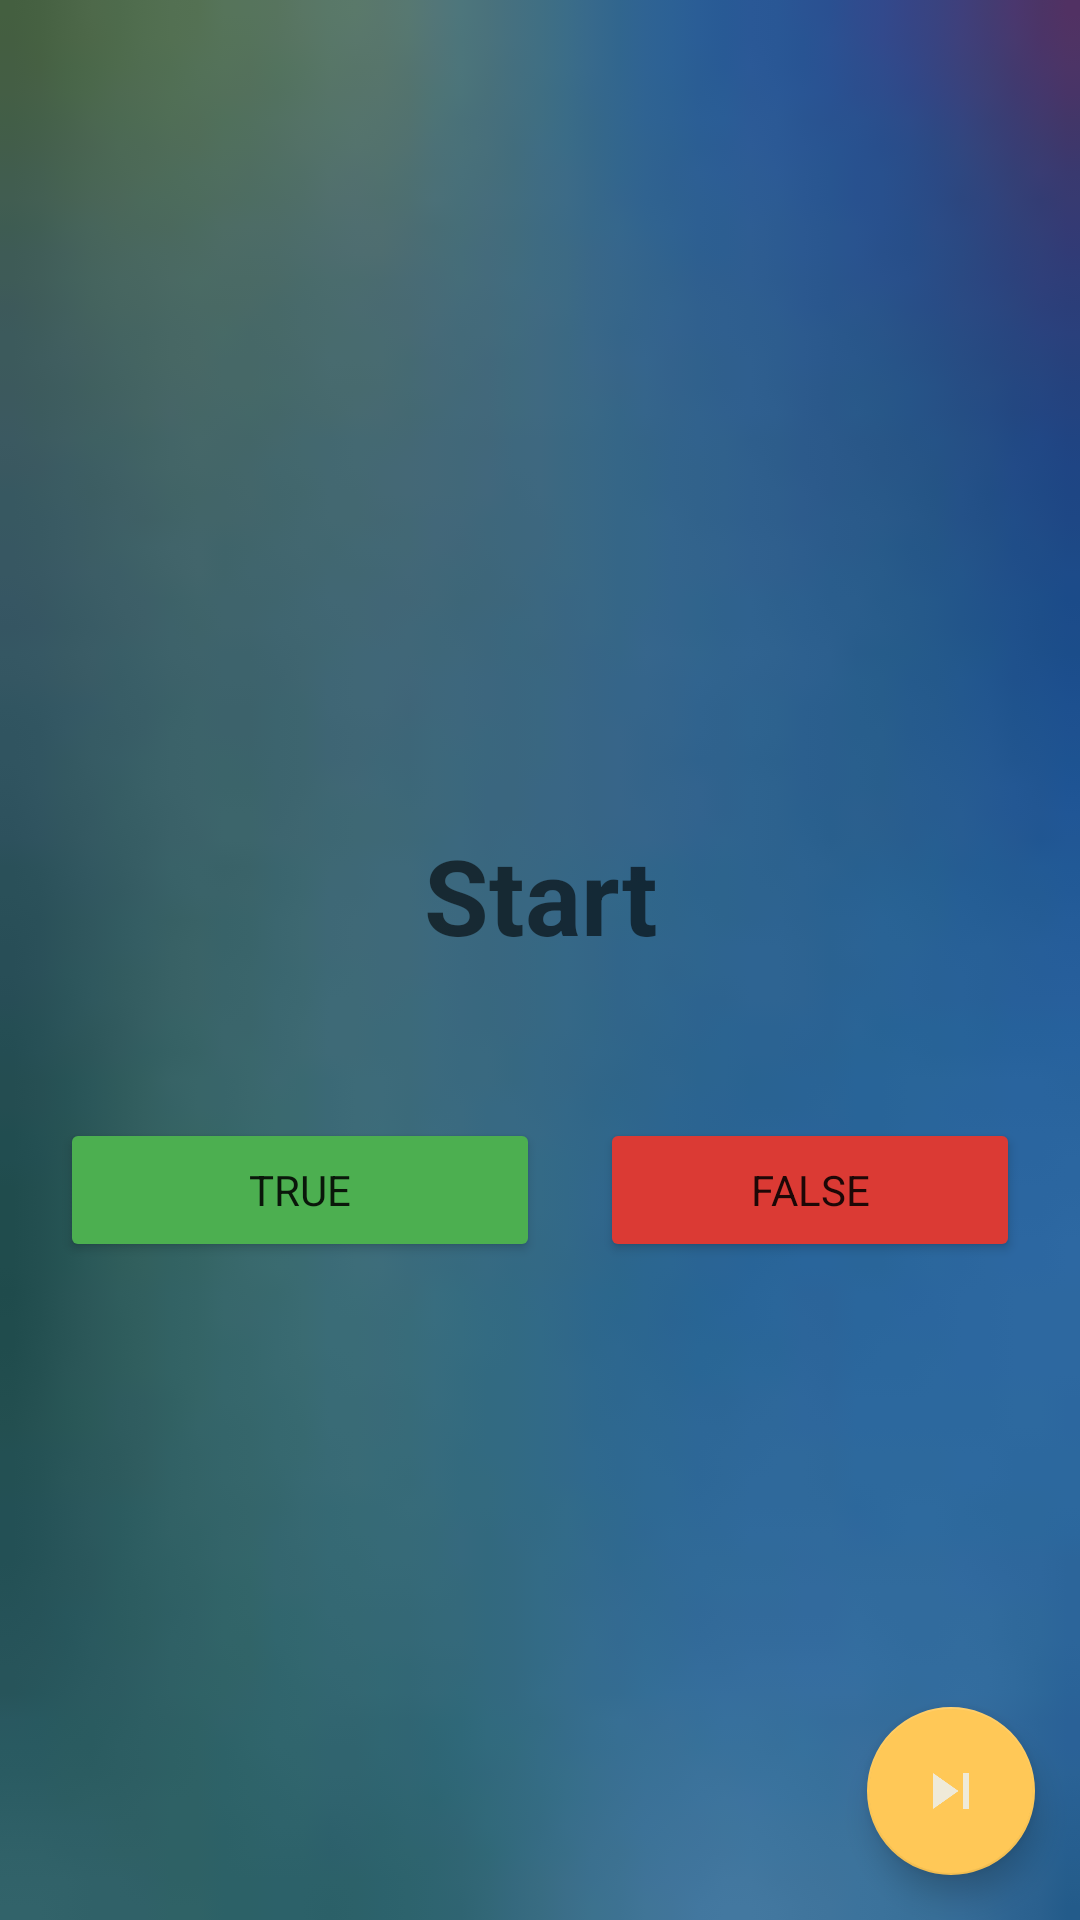

Where to tap for icons on this 1080 x 1920 app screen, as [x,y]:
skip next: [951,1791]
